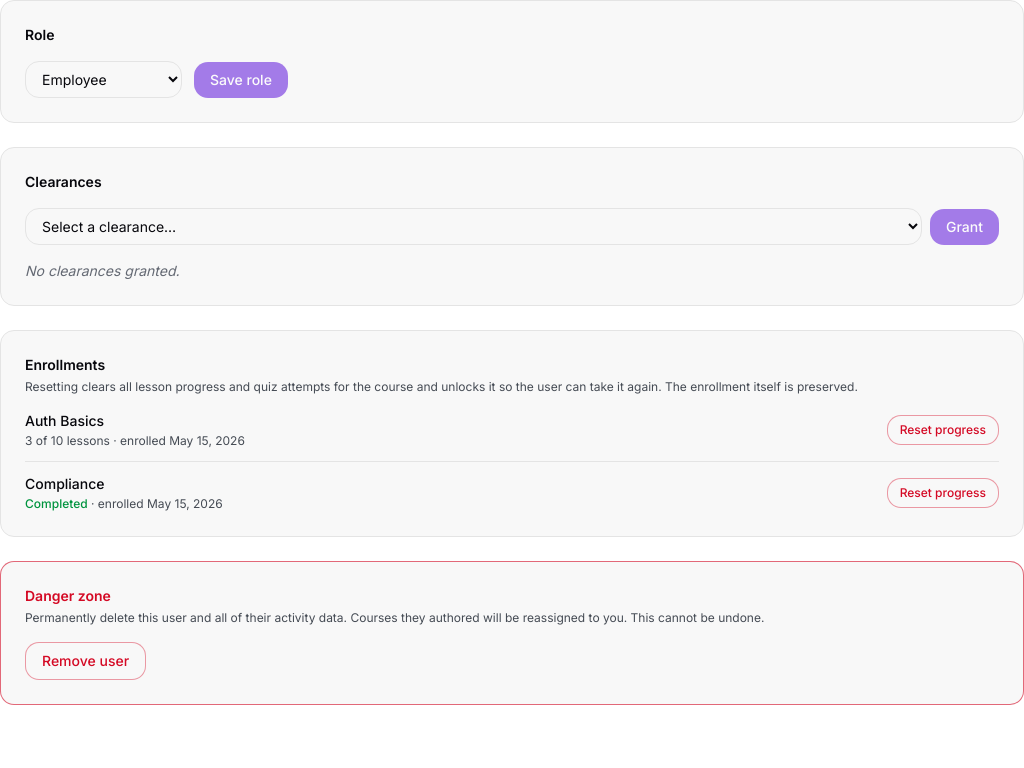
Test: UserDetailManager — role card › surfaces a role-update error
Select "Employee" in the dropdown named "User role": point(104, 80) [25,61,182,98]
Select "Admin" in the dropdown named "User role": point(104, 80) [25,61,182,98]
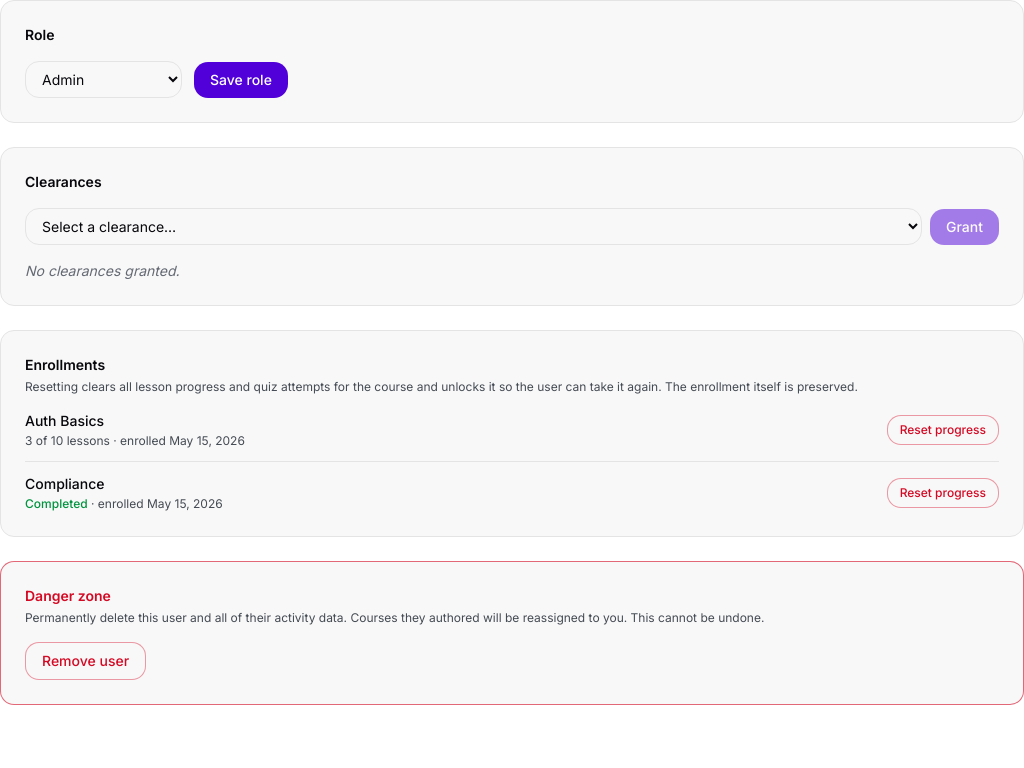
Click the button "Save role": point(241, 80) [194,62,288,98]
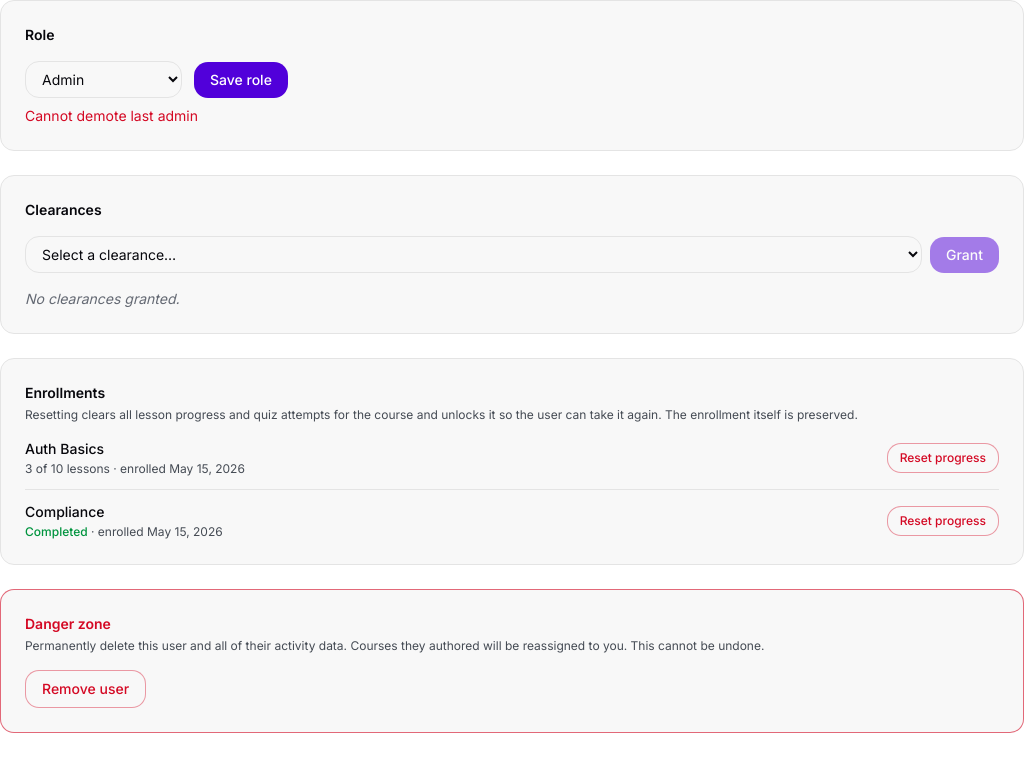
Expected: the text "Cannot demote last admin" is shown, [25,107,198,124]
